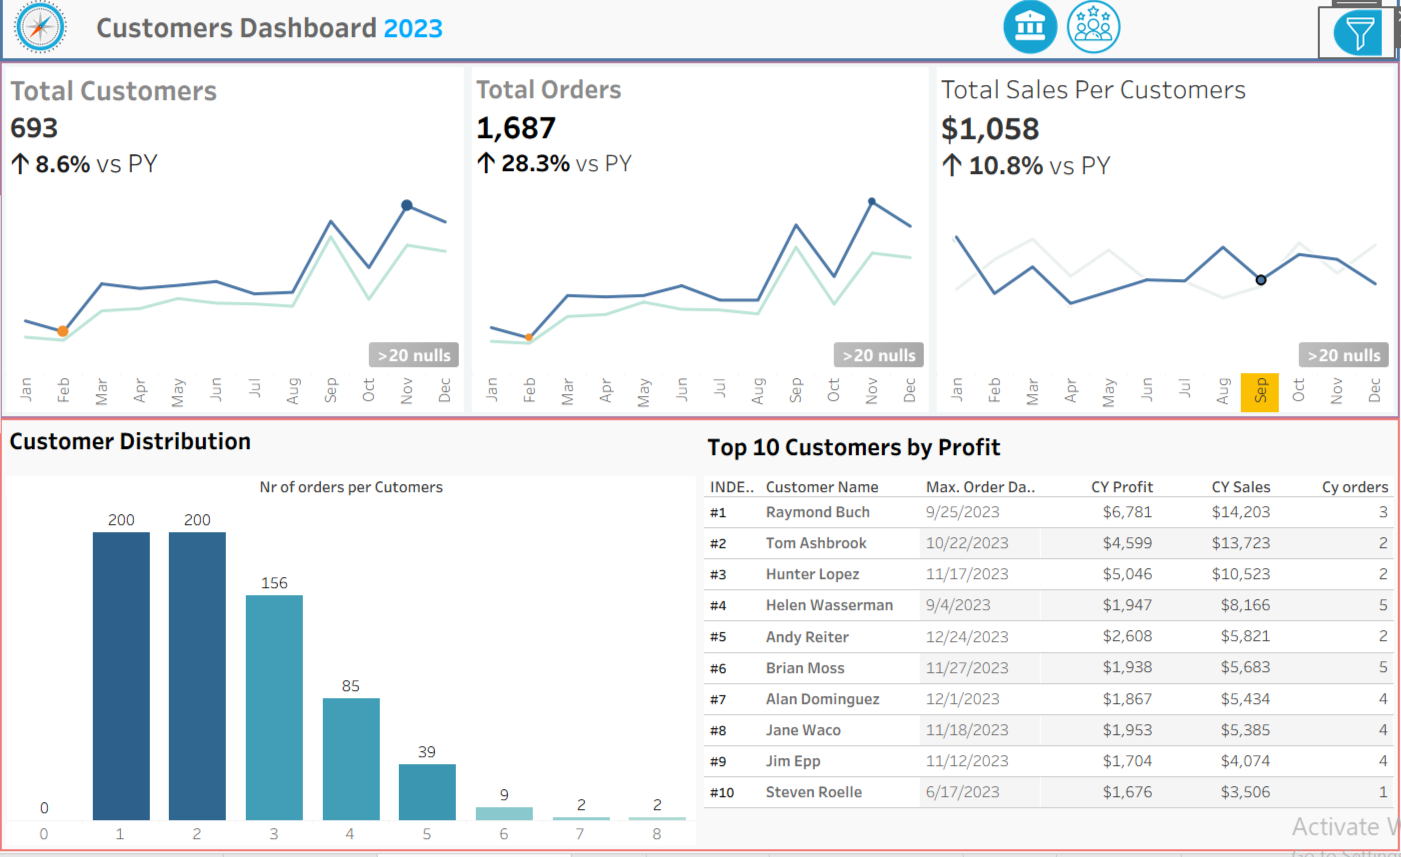

The page's visual inventory and layout, read from the dashboard file:
{"tool":"tableau","page":{"name":"Customers Dashboard","canvas":[1000,1000],"units":"permille","ordinal":0},"visuals":[{"type":"image","param":"Image/Icon - Logo.png","box":[2.1,3.5,57.1,74.4]},{"type":"text","box":[59.3,3.5,653.6,74.4]},{"type":"dashboard-object","box":[712.9,3.5,45.7,74.4]},{"type":"dashboard-object","box":[758.6,3.5,45,74.4]},{"type":"dashboard-object","box":[942.5,19.8,53.3,57]},{"type":"worksheet","title":"KPI Customers","mark":"Automatic","rows":["Calculation_1244967091392546"],"cols":["Order Date"],"box":[1.4,83.7,332.9,410.5]},{"type":"worksheet","title":"KPI Orders","mark":"Automatic","rows":["Calculation_1244967124734003"],"cols":["Order Date"],"box":[334.3,83.7,332.1,410.5]},{"type":"worksheet","title":"KPI Sales Per Customers","mark":"Automatic","rows":["Calculation_1244967115259947"],"cols":["Order Date"],"box":[666.4,83.7,332.1,410.5]},{"type":"text","box":[865.8,86.2,130,66.2]},{"type":"parameter","param":"[Parameters].[Parameter 1244966413344769]","box":[865.8,152.5,130,64]},{"type":"blank","box":[865.8,216.5,130,40]},{"type":"text","box":[865.8,256.5,130,36.2]},{"type":"filter","title":"KPI Customers","param":"[federated.1blotq40zyepn1136ofxb00pnkki].[none:Category:nk]","box":[865.8,292.7,130,64]},{"type":"filter","title":"KPI Customers","param":"[federated.1blotq40zyepn1136ofxb00pnkki].[none:Sub-Category:nk]","box":[865.8,356.7,130,103.8]},{"type":"text","box":[865.8,460.5,130,36.2]},{"type":"filter","title":"KPI Customers","param":"[federated.1blotq40zyepn1136ofxb00pnkki].[none:Region:nk]","box":[865.8,496.7,130,64]},{"type":"text","box":[1.4,498.8,498.6,46.5]},{"type":"text","box":[500,498.8,498.6,60.1]},{"type":"worksheet","title":"Customer Distribution","mark":"Automatic","rows":["Calculation_1244967087575071"],"cols":["Calculation_1244967144562753"],"box":[1.4,559,498.6,438.7]},{"type":"worksheet","title":"Top Customers","mark":"Automatic","rows":["Calculation_1244967143120959","Customer Name","Order Date"],"box":[500,559,498.6,395.4]},{"type":"filter","title":"KPI Customers","param":"[federated.1blotq40zyepn1136ofxb00pnkki].[none:State:nk]","box":[865.8,560.8,130,64]},{"type":"filter","title":"KPI Customers","param":"[federated.1blotq40zyepn1136ofxb00pnkki].[none:City:nk]","box":[865.8,624.8,130,92.5]}]}

Visuals, with their boxes on the dashboard's canvas, which has no fixed pixel size, in thousandths of its width and height (x1, y1, x2, y2). These are canvas units, not pixel positions in the 1401x857 screenshot, which may show the page scaled, cropped or inside an application window:
image: <box>2,4,59,78</box>
text: <box>59,4,713,78</box>
dashboard-object: <box>713,4,759,78</box>
dashboard-object: <box>759,4,804,78</box>
dashboard-object: <box>942,20,996,77</box>
"KPI Customers" worksheet: <box>1,84,334,494</box>
"KPI Orders" worksheet: <box>334,84,666,494</box>
"KPI Sales Per Customers" worksheet: <box>666,84,998,494</box>
text: <box>866,86,996,152</box>
parameter: <box>866,152,996,216</box>
blank: <box>866,216,996,256</box>
text: <box>866,256,996,293</box>
"KPI Customers" filter: <box>866,293,996,357</box>
"KPI Customers" filter: <box>866,357,996,460</box>
text: <box>866,460,996,497</box>
"KPI Customers" filter: <box>866,497,996,561</box>
text: <box>1,499,500,545</box>
text: <box>500,499,999,559</box>
"Customer Distribution" worksheet: <box>1,559,500,998</box>
"Top Customers" worksheet: <box>500,559,999,954</box>
"KPI Customers" filter: <box>866,561,996,625</box>
"KPI Customers" filter: <box>866,625,996,717</box>
